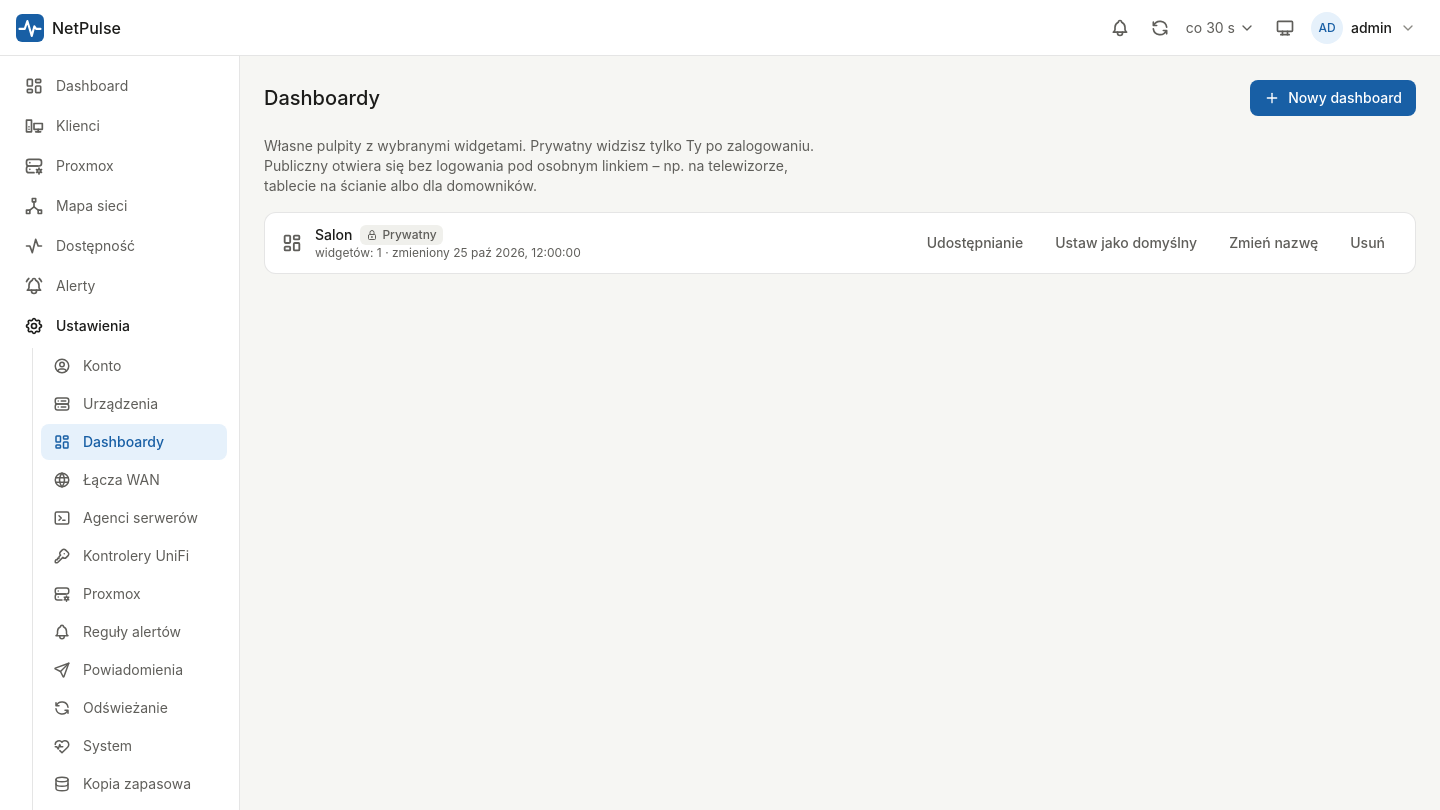
Test: kreator dashboardów › lista: udostępnianie, wymiana linku i wyłączenie
Click the button "Udostępnianie". click: click(975, 243)
box: top-left (913, 225), bottom-right (1037, 261)
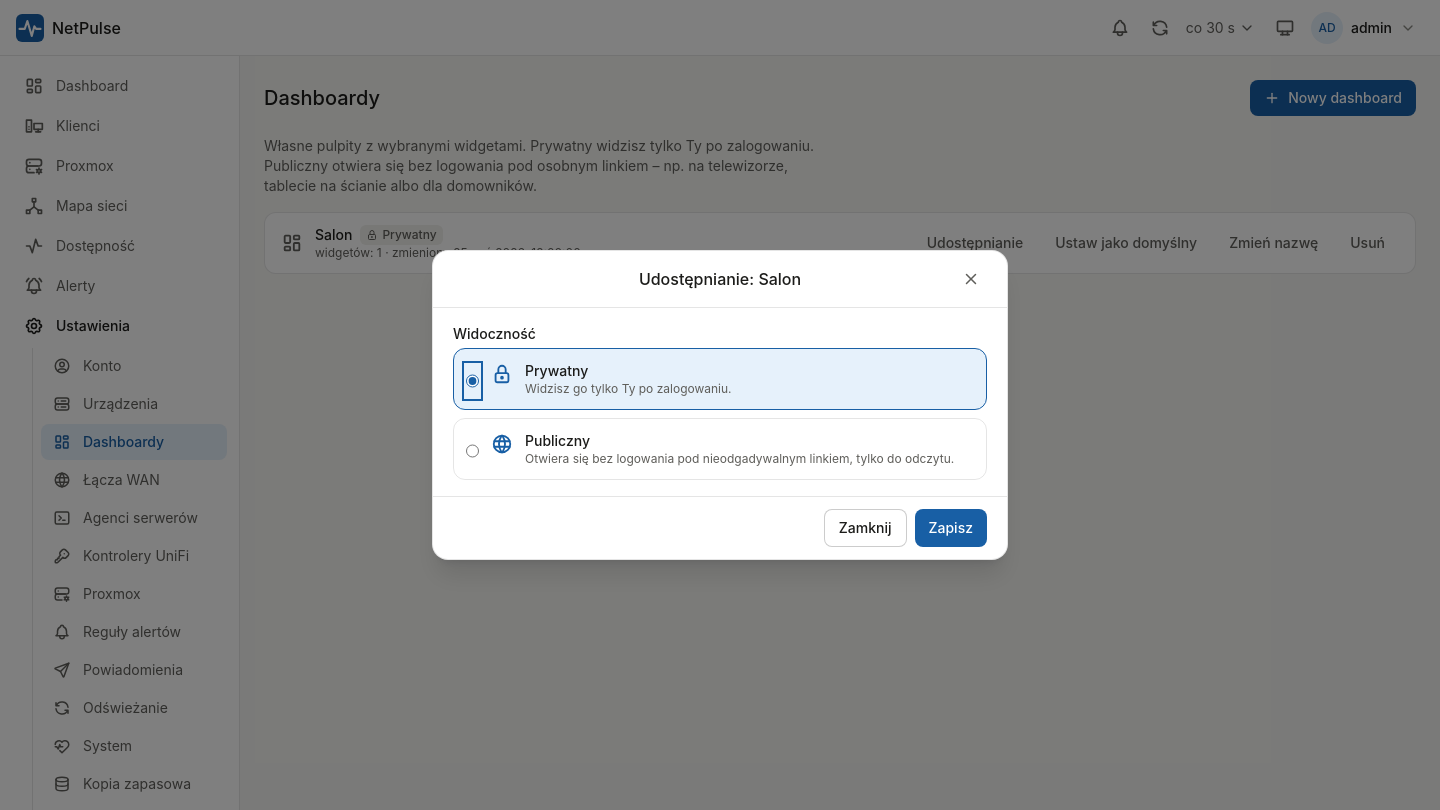
Click the radio button labelled "Publiczny". click: click(472, 451)
box: top-left (466, 435), bottom-right (479, 467)
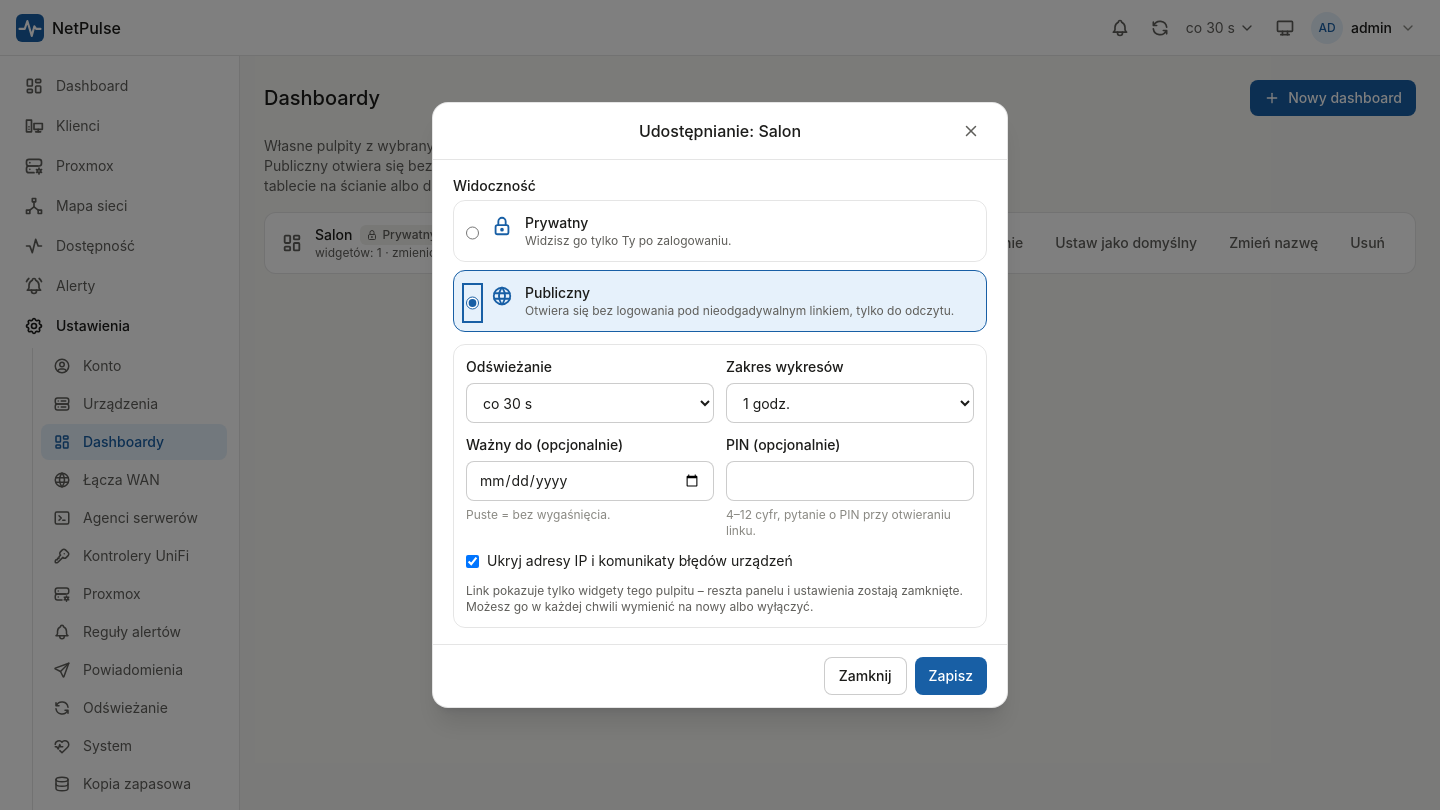
Click the button "Zapisz". click: click(951, 676)
box: top-left (914, 657), bottom-right (987, 695)
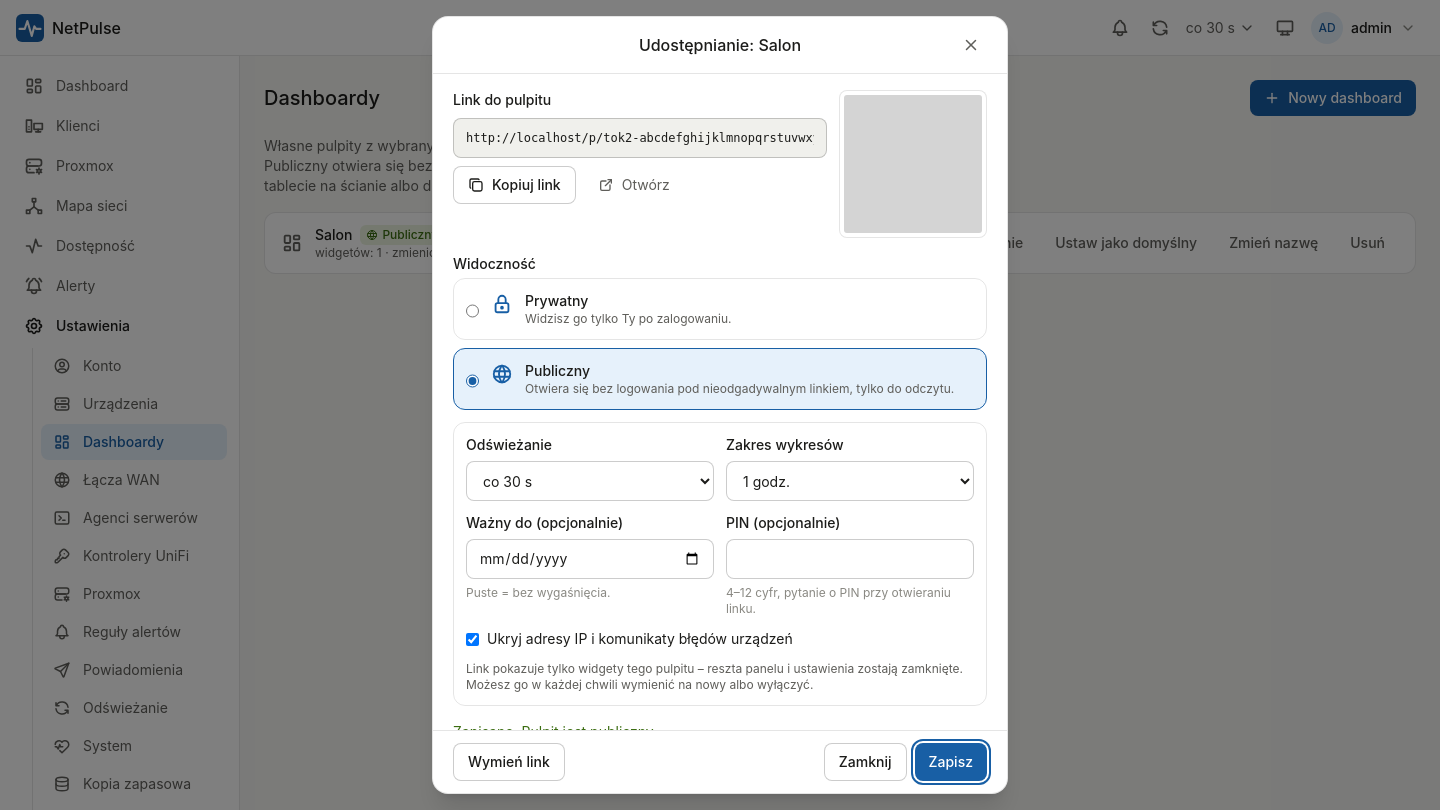
Click the button "Wymień link". click: click(509, 762)
box: top-left (453, 743), bottom-right (565, 781)
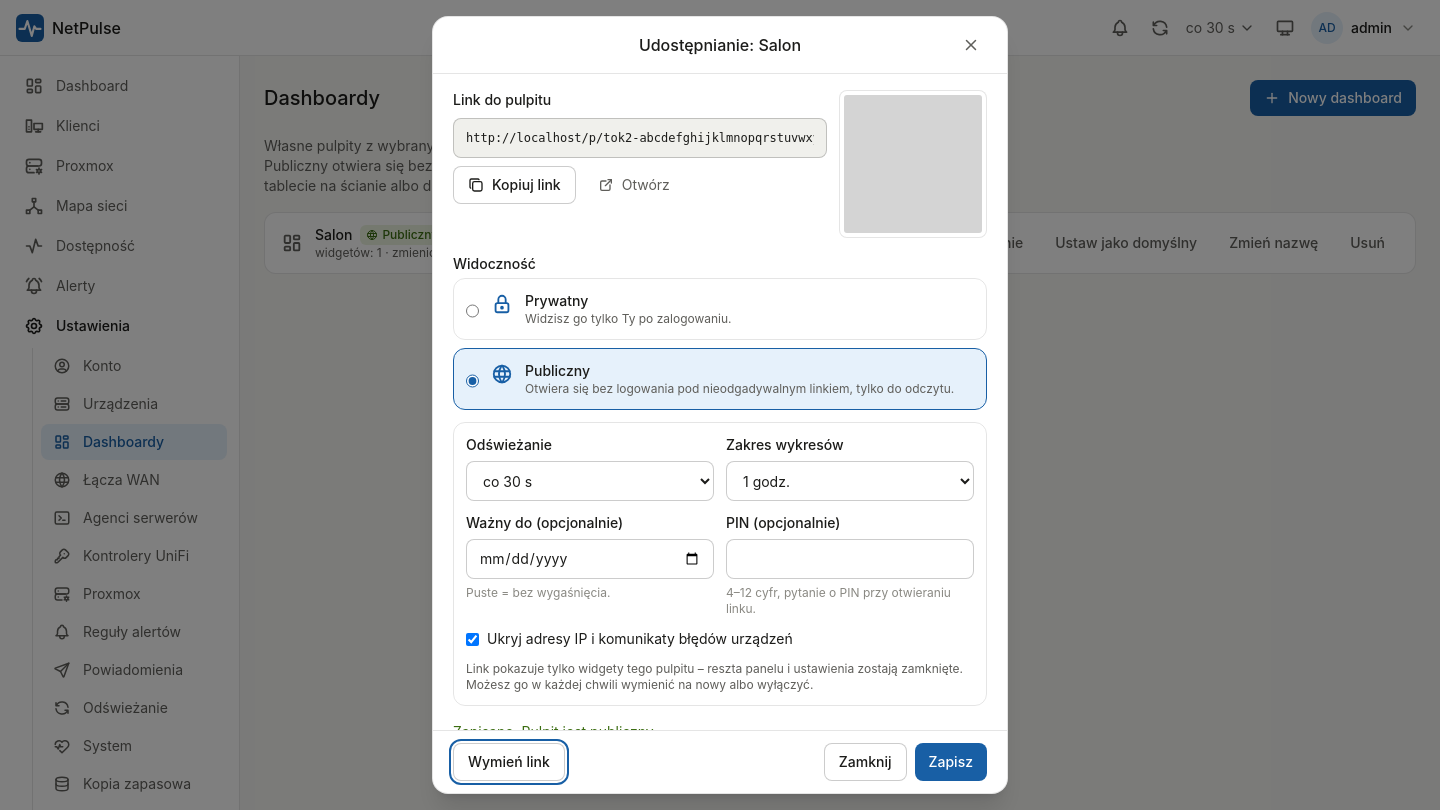
Click the radio button labelled "Prywatny Widzisz go tylko Ty po zalogowaniu.". click: click(472, 311)
box: top-left (466, 295), bottom-right (479, 327)
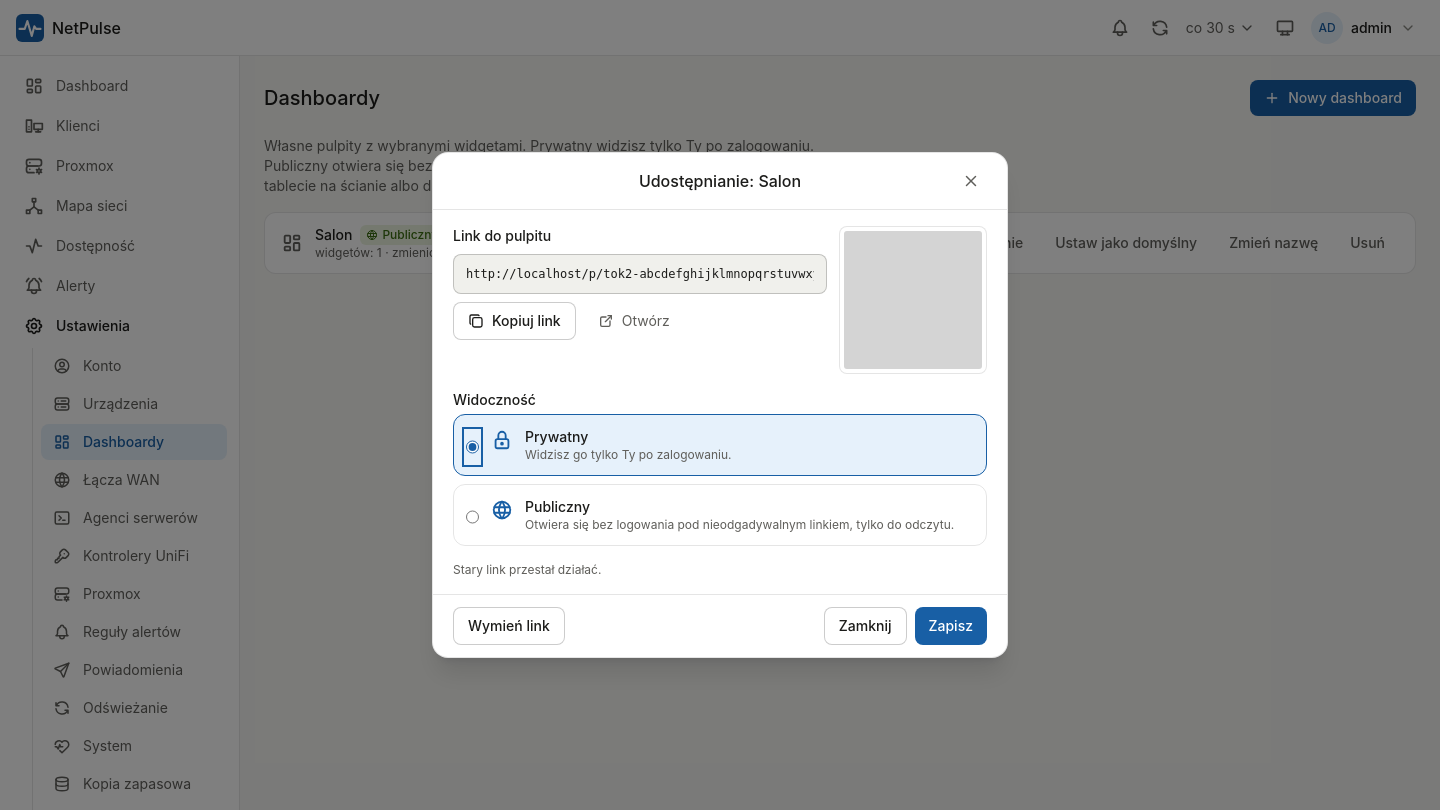
Click the button "Zapisz". click: click(951, 626)
box: top-left (914, 607), bottom-right (987, 645)
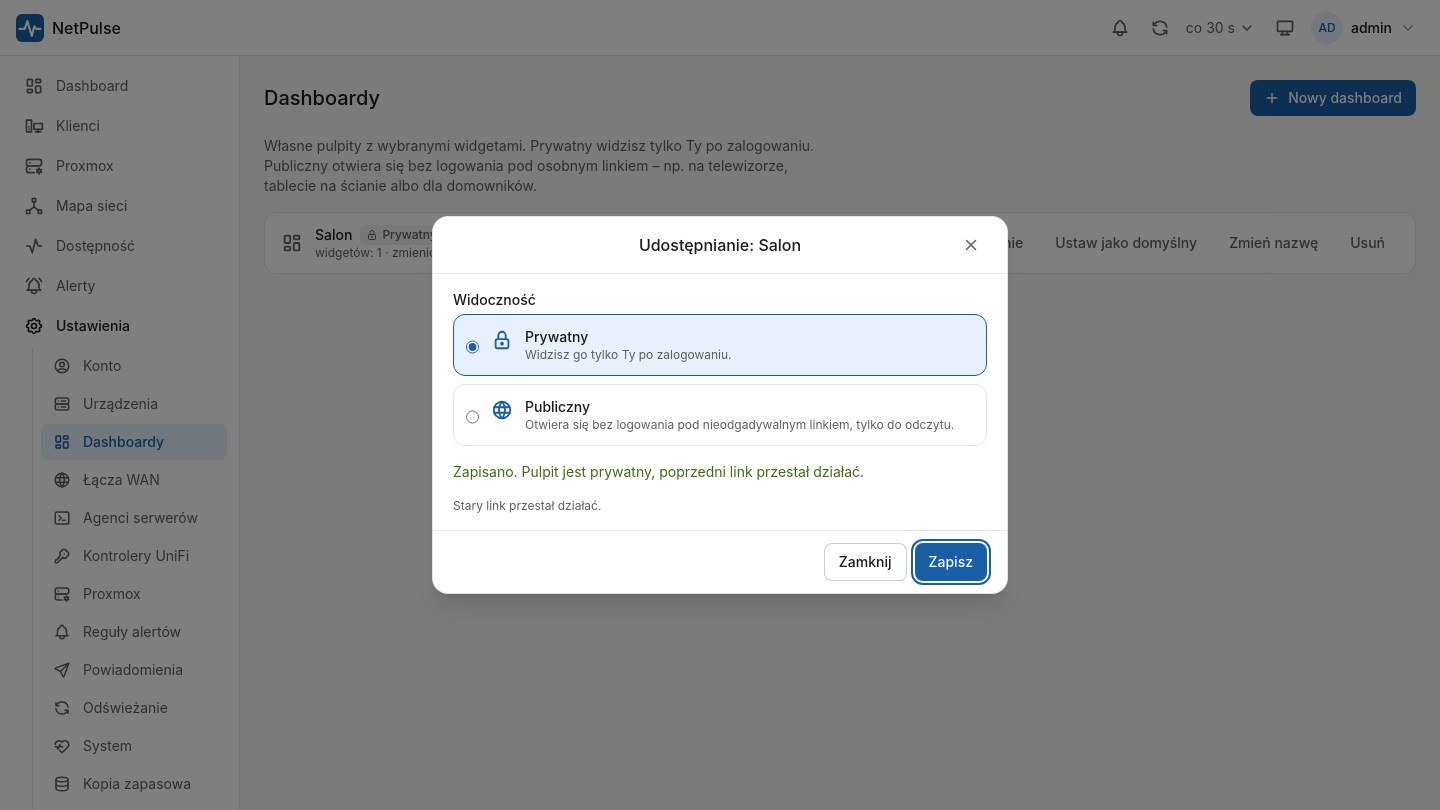
Expected: the text "Zapisano. Pulpit jest prywatny, poprzedni link przestał działać." is shown, top-left (453, 463), bottom-right (864, 480)
